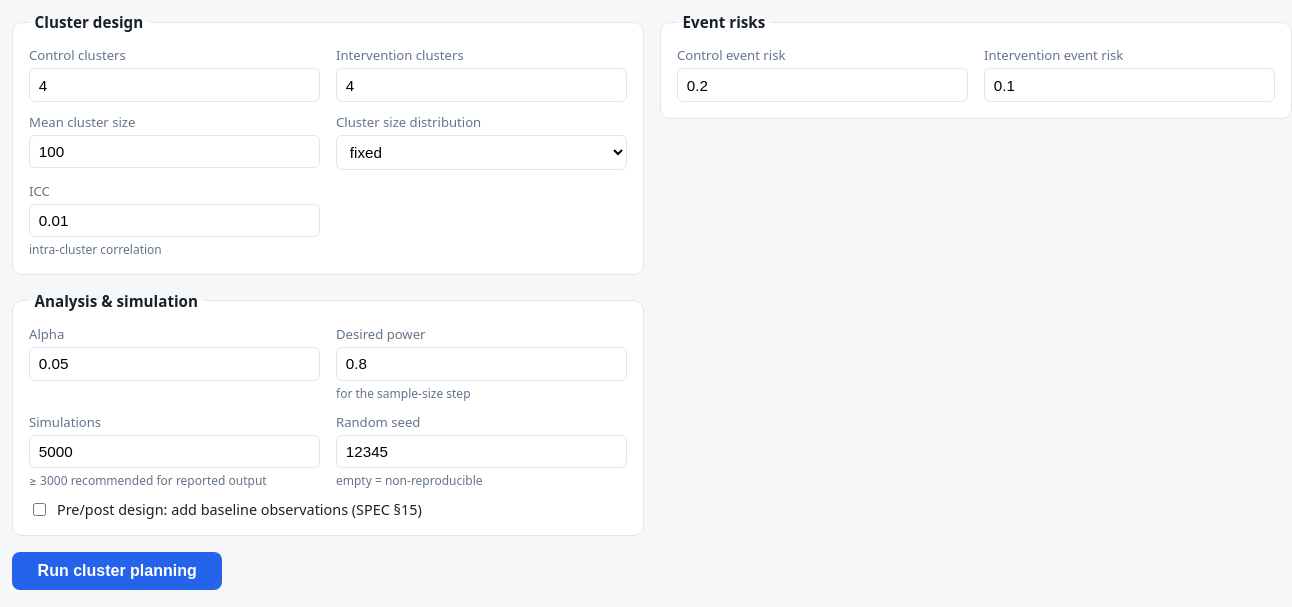
Test case: ClusterTrials pre/post design › marks the correlation field on a pre/post 422
The image size is (1292, 607).
Click the checkbox with test id "pre-post-toggle": (40,510) [33,503,46,516]
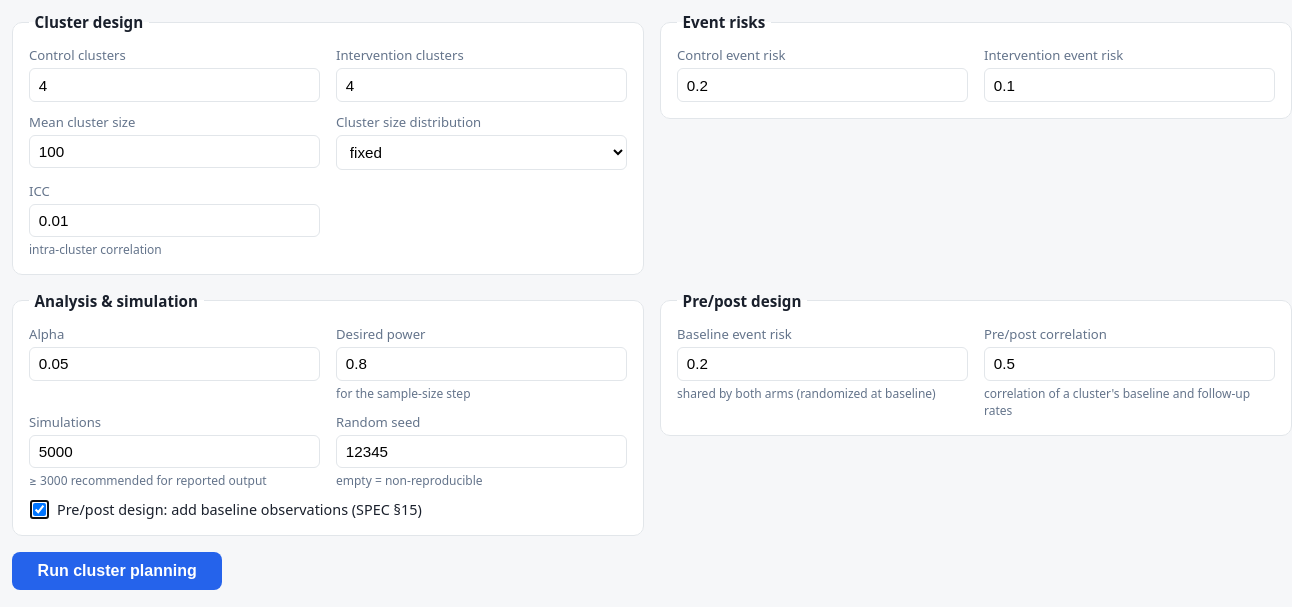
Click the button with test id "run-button": (117,571) [12,552,222,590]
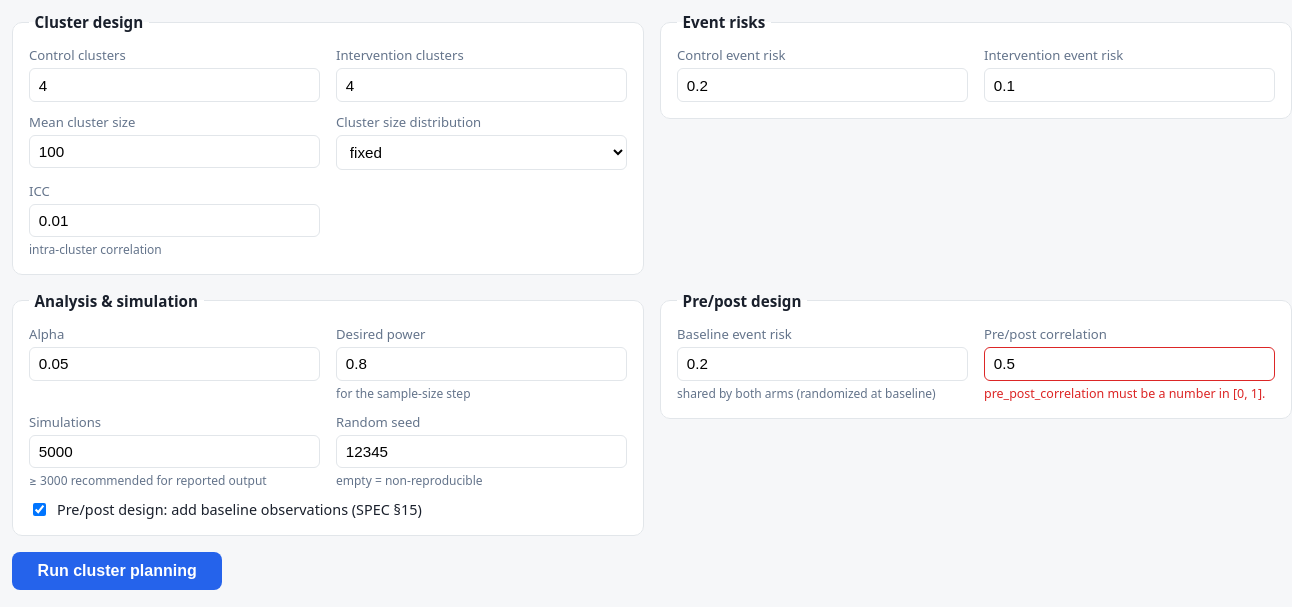
Now the message shows "must be a number in [0, 1]", box [984,385,1265,402]
